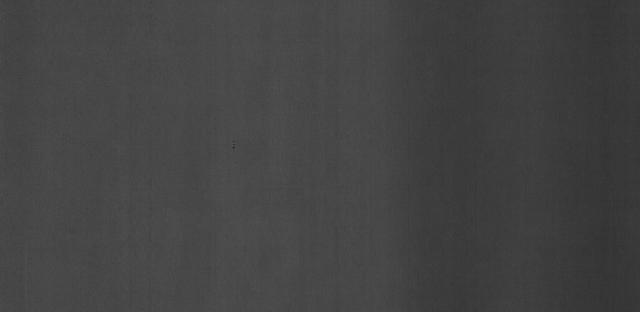inclusion: (223, 135, 242, 156)
